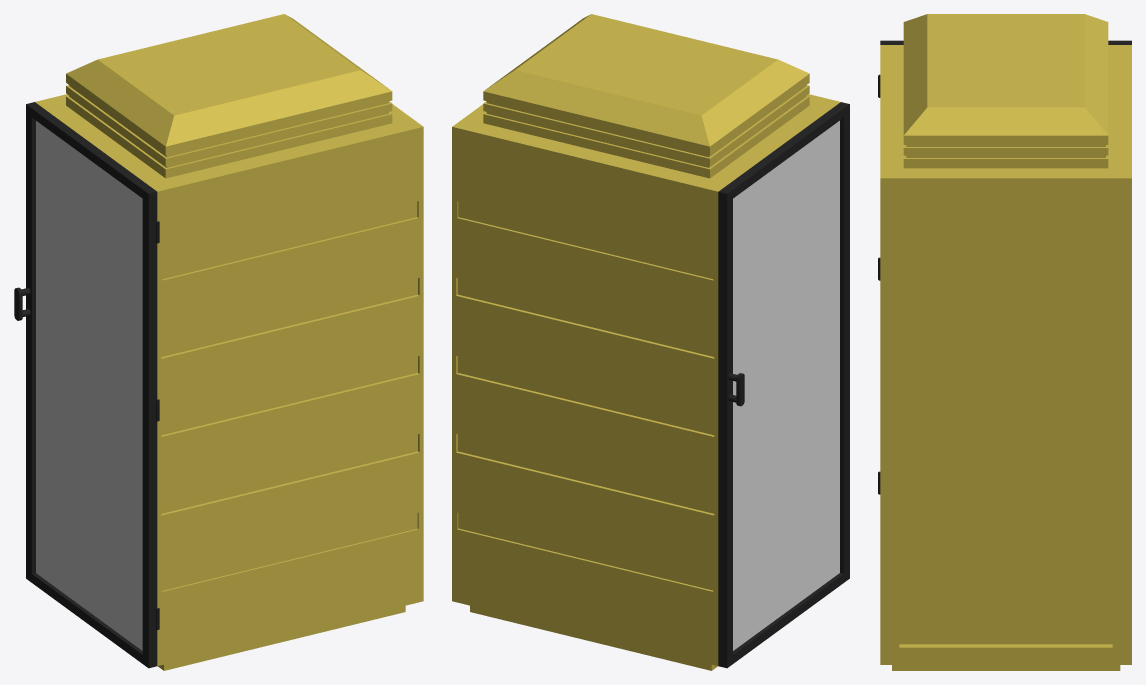
The model's file is entity21250.gltf.
3 views of the same model, side by side, from view 1: azimuth 30°, elevation 25°; view 2: azimuth 150°, elevation 25°; view 3: azimuth 270°, elevation 25° (orthographic). The views are drawn at different scales.
Parts seen in each view (by area): view 1: node_server3, node_Cube.074; view 2: node_server3, node_Cube.074; view 3: node_server3, node_Cube.074.
Boxes of the visible parts, bbox=[...] form: node_server3: bbox=[35, 14, 423, 670]; node_Cube.074: bbox=[14, 102, 159, 668]; node_server3: bbox=[452, 14, 840, 670]; node_Cube.074: bbox=[718, 102, 849, 668]; node_server3: bbox=[880, 14, 1131, 670]; node_Cube.074: bbox=[878, 40, 1131, 494].
Bounding box in the file's own units: 1.33 × 2.38 × 0.9938.
